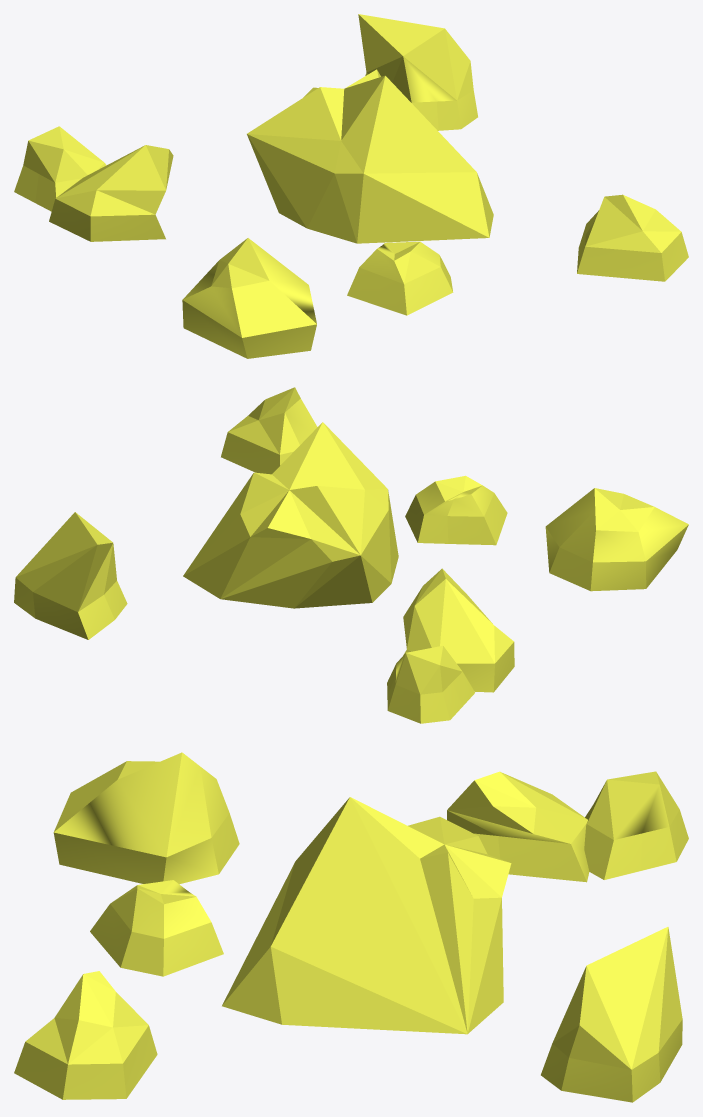
File: ore_02.fbx
3 views of the same model, one above another, from view 1: azimuth 30°, elevation 25°; view 2: azimuth 150°, elevation 25°; view 3: azimuth 270°, elevation 25° (orthographic). The views are drawn at different scales.
Visible parts, largest first — view 1: ore; view 2: ore; view 3: ore.
Part boxes in pixels (bbox=[...]): ore: bbox=[14, 14, 688, 358]; ore: bbox=[14, 387, 688, 723]; ore: bbox=[14, 752, 688, 1102].
Bounding box in the file's own units: 0.3192 × 0.0972 × 0.3215.
